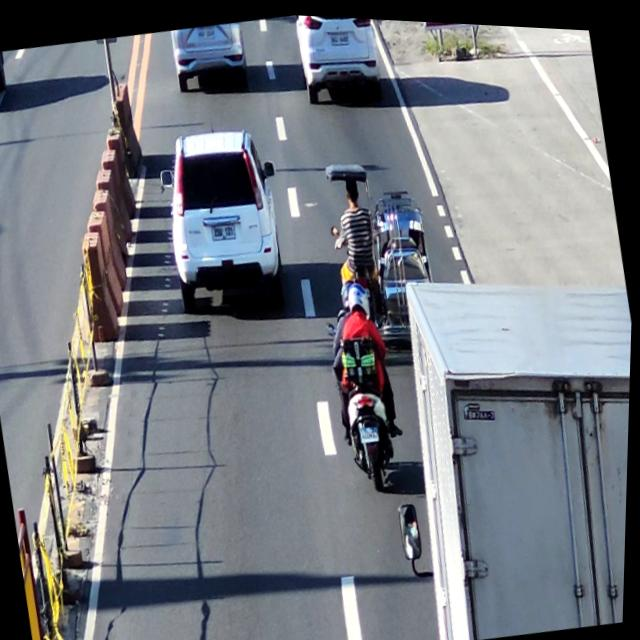Car: (153, 118, 298, 324), (293, 12, 387, 107), (167, 15, 253, 92)
License-Plate: (358, 417, 387, 446), (212, 219, 240, 247), (195, 21, 217, 42), (330, 27, 349, 44)
Motorcycle: (316, 270, 415, 493)
Tricycle: (322, 148, 434, 284)
Truck: (394, 234, 635, 640)
